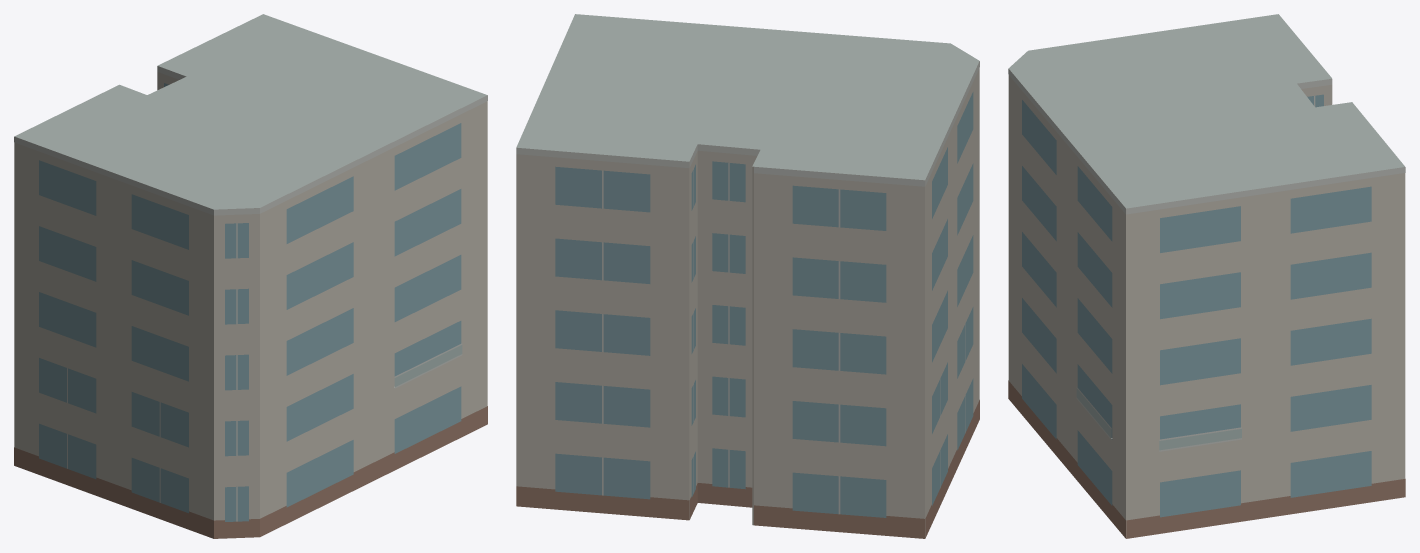
The model's file is survey-upis-32622194.glb.
3 views of the same model, side by side, from view 1: azimuth 30°, elevation 25°; view 2: azimuth 150°, elevation 25°; view 3: azimuth 270°, elevation 25° (orthographic). The views are drawn at different scales.
Parts seen in each view (by area): view 1: survey-upis-32622194.tmp; view 2: survey-upis-32622194.tmp; view 3: survey-upis-32622194.tmp.
Part boxes in pixels (bbox=[...]): survey-upis-32622194.tmp: bbox=[14, 14, 487, 538]; survey-upis-32622194.tmp: bbox=[516, 14, 979, 538]; survey-upis-32622194.tmp: bbox=[1008, 14, 1405, 538].
Bounding box in the file's own units: 17.07 × 13.5 × 14.71.
